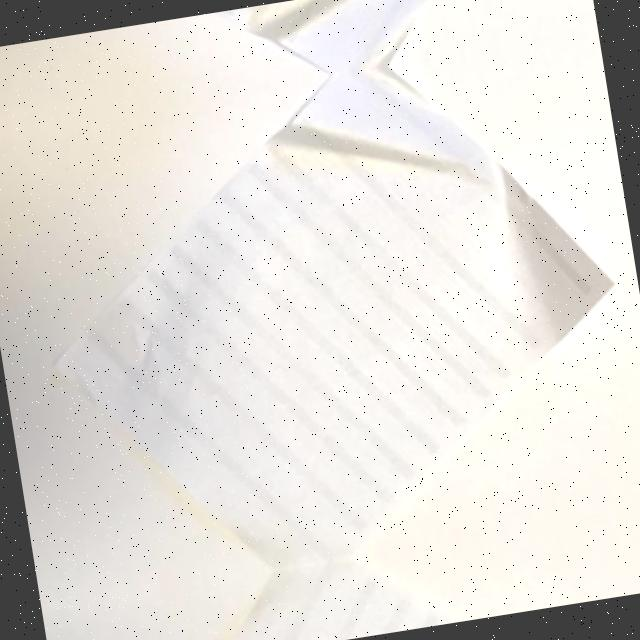paper: (17, 39, 640, 598), (92, 511, 640, 640), (4, 0, 577, 122)
